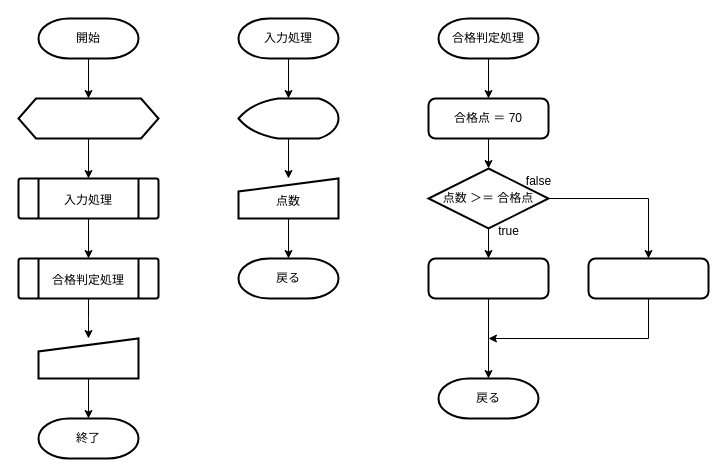
Some shapes in this 726 by 476 pixel diagram are drawn without their labels. The centre of each missing label's shape, as x and y in pixels:
点数, 合格点, 結果: the point at 88,118
点数：: the point at 288,118
結果: the point at 88,358
結果 ＝ "【不合格】": the point at 648,278
結果 ＝ "【合格】": the point at 488,278
